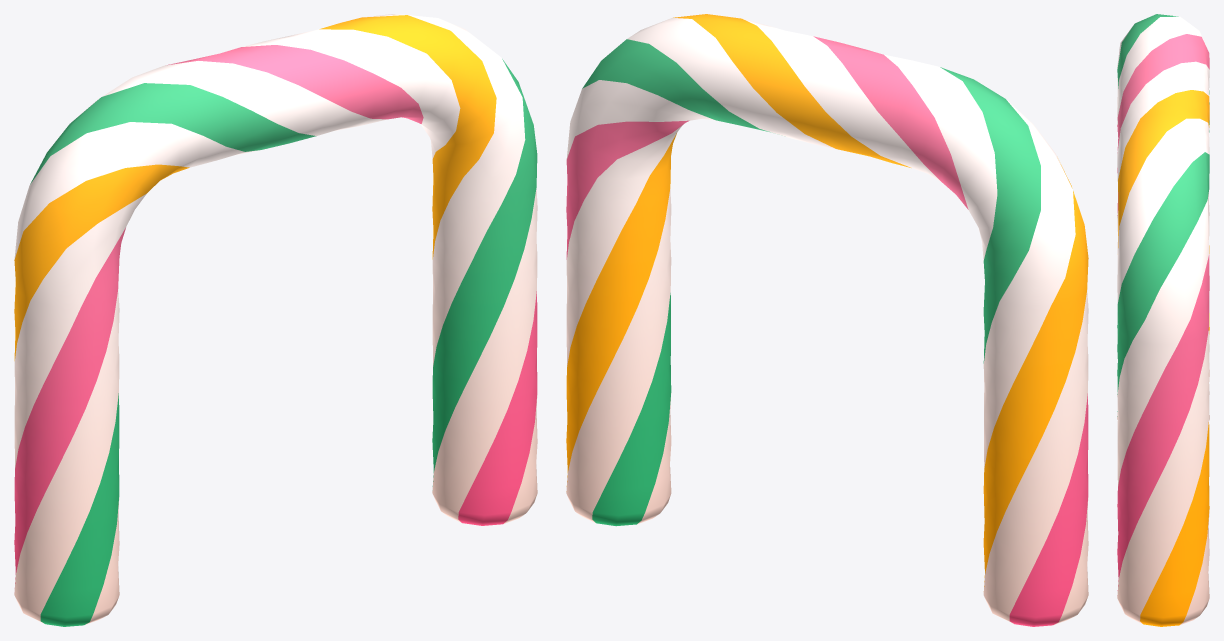
The model's file is Gate_02.glb.
The picture shows the model from 3 angles, left to right: view 1: azimuth 30°, elevation 25°; view 2: azimuth 150°, elevation 25°; view 3: azimuth 270°, elevation 25°; orthographic projection. The views are drawn at different scales.
Parts seen in each view (by area): view 1: Gate_02; view 2: Gate_02; view 3: Gate_02.
Part boxes in pixels (x1=…): Gate_02: x1=14, y1=14, x2=537, y2=626; Gate_02: x1=566, y1=14, x2=1088, y2=626; Gate_02: x1=1117, y1=14, x2=1209, y2=626.
Size of the model in its own units: 5.26 by 5.09 by 0.9426.
Materials: 1 (1 with a texture image).
